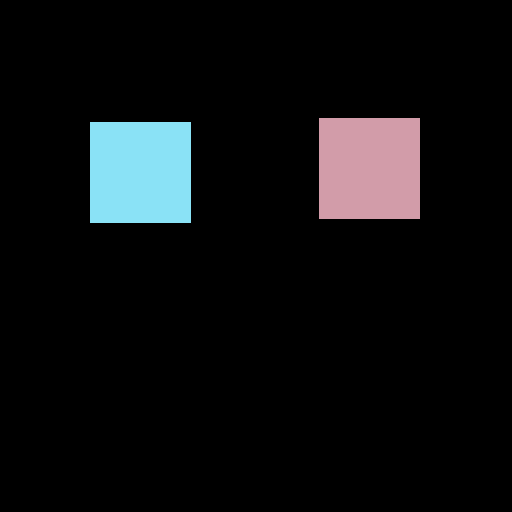square: (90, 122, 190, 222), (319, 118, 419, 218)
